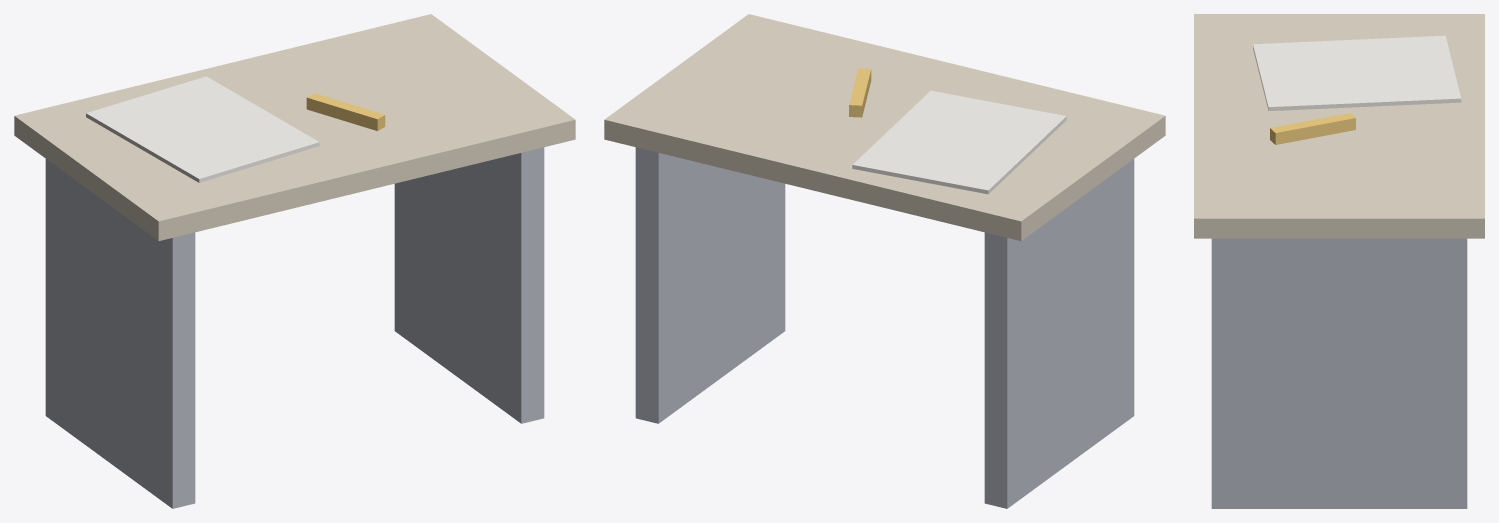
File: station_processing_2.glb
3 views of the same model, side by side, from view 1: azimuth 30°, elevation 25°; view 2: azimuth 150°, elevation 25°; view 3: azimuth 270°, elevation 25° (orthographic).
Parts seen in each view (by area): view 1: platte, bein_paar, bein_paar.001, blatt, stift; view 2: platte, bein_paar, bein_paar.001, blatt, stift; view 3: bein_paar.001, platte, blatt, stift.
Part boxes in pixels (x1,y1,x2,y2): platte: (14,14,575,240); bein_paar: (45,159,195,508); bein_paar.001: (394,147,544,423); blatt: (86,76,319,182); stift: (306,93,385,130); platte: (604,14,1165,240); bein_paar: (984,159,1134,508); bein_paar.001: (635,147,785,423); blatt: (852,90,1066,194); stift: (849,68,871,117); bein_paar.001: (1211,238,1467,508); platte: (1194,14,1484,238); blatt: (1253,35,1461,110); stift: (1270,113,1355,144).
Size of the model in its own units: 1.1 by 0.785 by 0.66.
